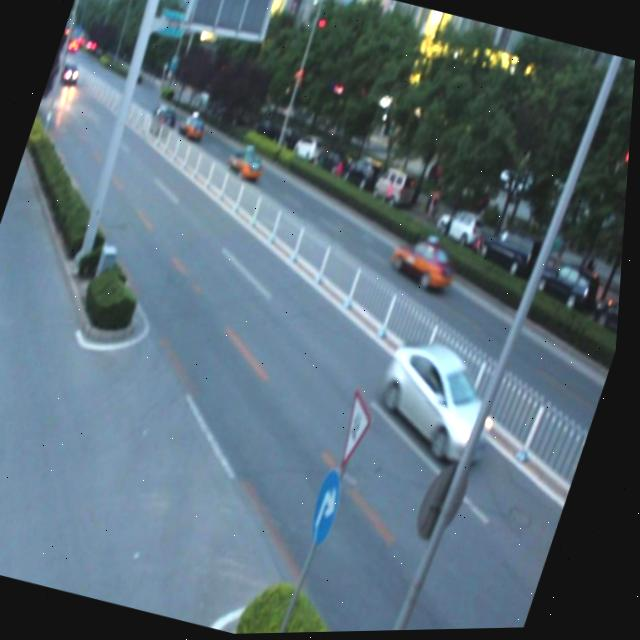car: (369, 334, 518, 471), (389, 235, 464, 293), (226, 146, 267, 180), (147, 104, 180, 137), (178, 113, 209, 141)
